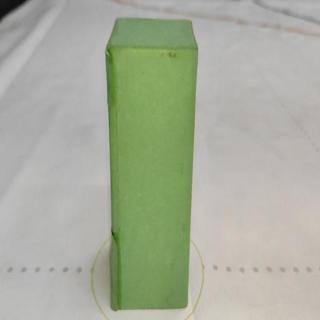greenbox: (103, 15, 199, 308)
